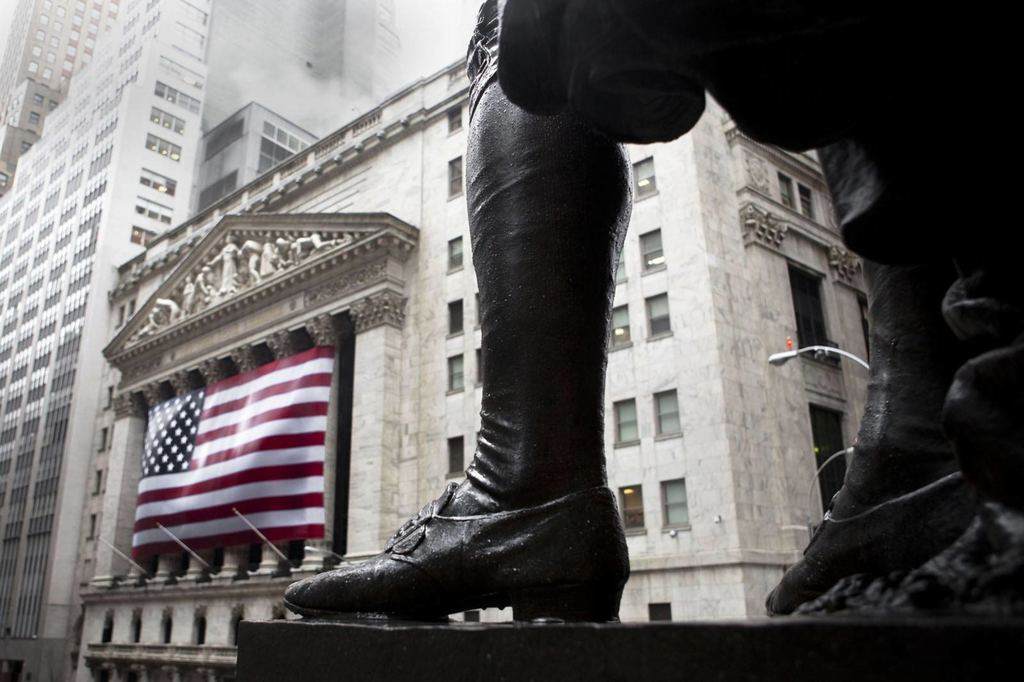Window: (0, 0, 119, 192), (787, 264, 840, 365), (810, 402, 849, 517), (255, 120, 309, 173), (660, 476, 694, 534), (618, 482, 648, 538), (157, 57, 204, 91), (155, 80, 199, 116), (652, 391, 684, 440), (637, 229, 666, 278), (612, 396, 640, 446), (643, 289, 674, 334), (138, 165, 177, 200), (206, 121, 243, 157), (143, 131, 182, 163), (134, 195, 174, 226), (635, 154, 659, 202), (607, 305, 631, 350), (149, 104, 184, 134), (446, 434, 467, 482), (174, 22, 203, 49), (447, 352, 465, 393), (178, 0, 207, 25), (446, 296, 463, 337), (446, 237, 465, 273), (797, 184, 816, 220), (447, 154, 462, 197), (776, 172, 792, 211), (130, 223, 156, 244), (446, 105, 462, 136), (650, 605, 673, 621), (474, 349, 483, 385), (618, 255, 627, 286), (86, 515, 96, 541), (127, 294, 134, 326), (475, 293, 481, 330), (91, 469, 100, 493), (463, 610, 480, 621), (100, 427, 107, 453), (106, 385, 112, 408), (113, 299, 118, 322)
